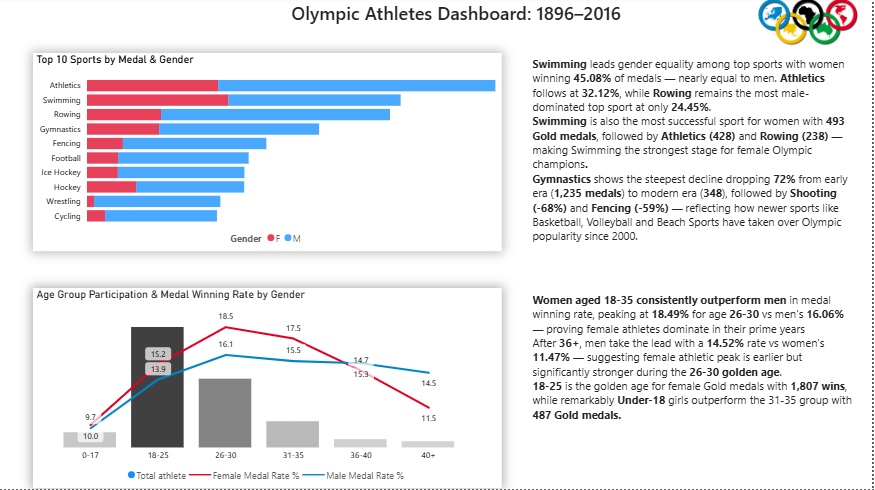

What the dashboard file says about the page in this screenshot:
{"tool":"powerbi","page":{"name":"Sports & Athletes","canvas":[1280,720],"ordinal":2},"visuals":[{"type":"image","box":[1088.8,1.5,191.7,68.8],"z":0},{"type":"textbox","box":[424.4,0,531.2,57.1],"z":1000},{"type":"barChart","title":"Top 10 Sports by Medal & Gender","fields":{"Category":["Olympics1896-2016.Sport"],"Y":["Olympics1896-2016.Total Medals"],"Series":["Olympics1896-2016.Sex"]},"box":[51.2,82,686.3,289.8],"z":2000},{"type":"textbox","box":[777.1,82,485.9,289.8],"z":3000},{"type":"lineStackedColumnComboChart","title":"Age Group Participation & Medal Winning Rate by Gender","fields":{"Category":["Olympics1896-2016.Age_Group"],"Y":["Olympics1896-2016.Total athlete"],"Y2":["Olympics1896-2016.Female Medal Rate %","Olympics1896-2016.Male Medal Rate %"]},"box":[51.2,425.9,686.3,292.7],"z":4000},{"type":"textbox","box":[777.1,427.3,485.9,207.8],"z":5000}]}

Visuals, with their boxes in screenshot pixels (x1, y1, x2, y2), scaled from the page's 1280x720 canvas onto the 875x490 screenshot:
image: {"left": 744, "top": 1, "right": 874, "bottom": 48}
textbox: {"left": 290, "top": 0, "right": 653, "bottom": 39}
"Top 10 Sports by Medal & Gender" barChart: {"left": 35, "top": 56, "right": 504, "bottom": 253}
textbox: {"left": 531, "top": 56, "right": 863, "bottom": 253}
"Age Group Participation & Medal Winning Rate by Gender" lineStackedColumnComboChart: {"left": 35, "top": 290, "right": 504, "bottom": 489}
textbox: {"left": 531, "top": 291, "right": 863, "bottom": 432}
